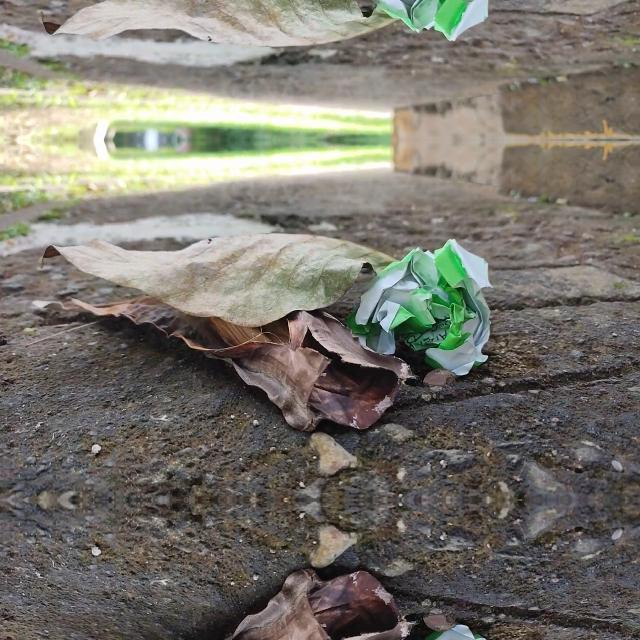paper: (348, 234, 500, 382), (347, 0, 500, 46), (347, 617, 500, 640)
